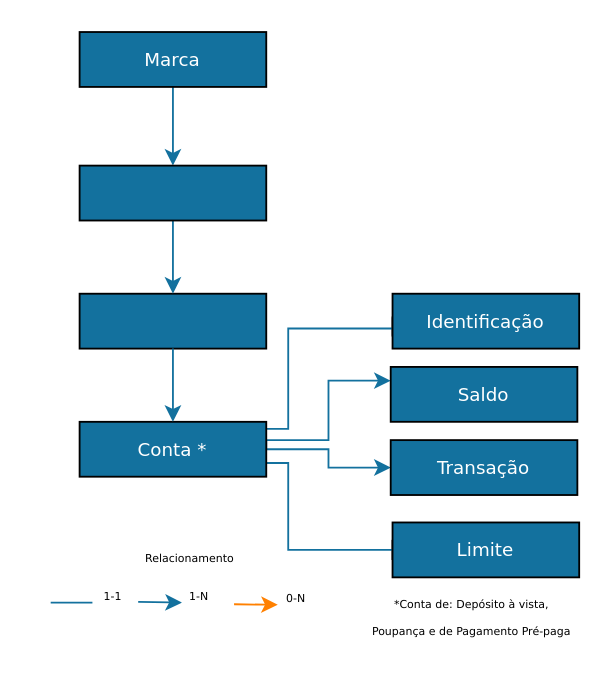
Image size: 611x673. Some labels were removed from this diagram. Here are the shapes that lost their labels. From the top down, the centre of each, then its label:
the point at 172,192: Instituição
the point at 172,320: Cliente PN e PJ
